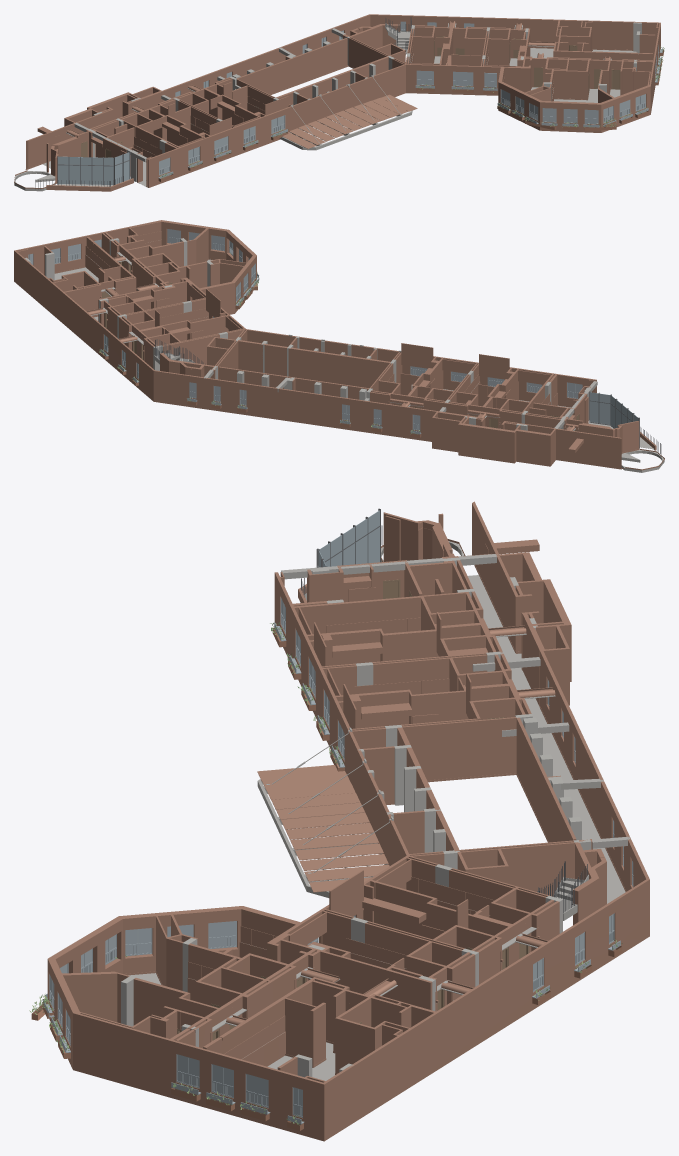
Rendered from revit_nivel_1.glb.
The picture shows the model from 3 angles, top to bottom: view 1: azimuth 30°, elevation 25°; view 2: azimuth 150°, elevation 25°; view 3: azimuth 270°, elevation 25°; orthographic projection. The views are drawn at different scales.
Visible parts, largest first — view 1: Revit_PISO 2; view 2: Revit_PISO 2; view 3: Revit_PISO 2.
Part boxes in pixels (x1,y1,x2,y2): Revit_PISO 2: (14,14,664,191); Revit_PISO 2: (14,220,664,472); Revit_PISO 2: (29,501,649,1141).
Size of the model in its own units: 68.43 by 4.25 by 29.64.
